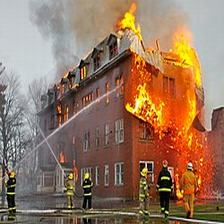fire: (110, 9, 217, 162), (54, 68, 76, 99), (54, 104, 69, 129), (57, 149, 68, 164)
